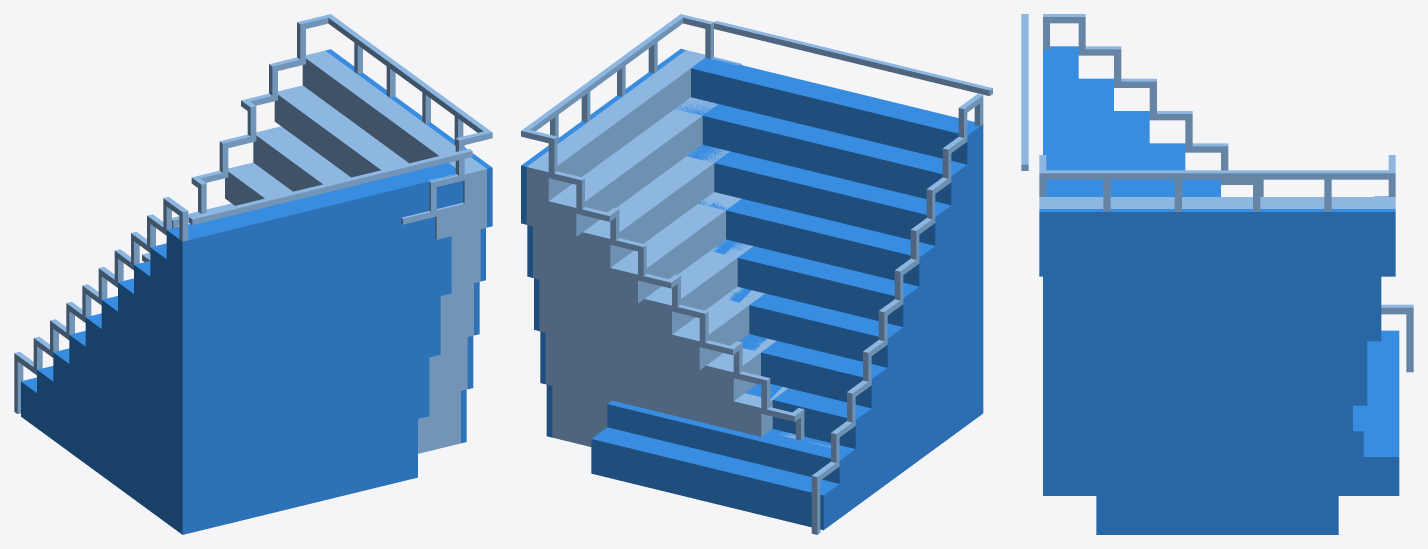
Rendered from Stadium2.fbx.
The picture shows the model from 3 angles, left to right: view 1: azimuth 30°, elevation 25°; view 2: azimuth 150°, elevation 25°; view 3: azimuth 270°, elevation 25°; orthographic projection. The views are drawn at different scales.
Visible parts, largest first — view 1: StadiumSeating2:Mesh, StadiumSeating1:Mesh; view 2: StadiumSeating2:Mesh, StadiumSeating1:Mesh; view 3: StadiumSeating1:Mesh, StadiumSeating2:Mesh.
Part boxes in pixels (bbox=[...]): StadiumSeating2:Mesh: bbox=[14, 148, 472, 534]; StadiumSeating1:Mesh: bbox=[142, 14, 492, 453]; StadiumSeating2:Mesh: bbox=[591, 20, 992, 534]; StadiumSeating1:Mesh: bbox=[521, 14, 830, 447]; StadiumSeating1:Mesh: bbox=[1039, 155, 1395, 534]; StadiumSeating2:Mesh: bbox=[1021, 14, 1413, 495].
Bounding box in the file's own units: 55 × 56 × 55.
2 materials, 2 textured.
